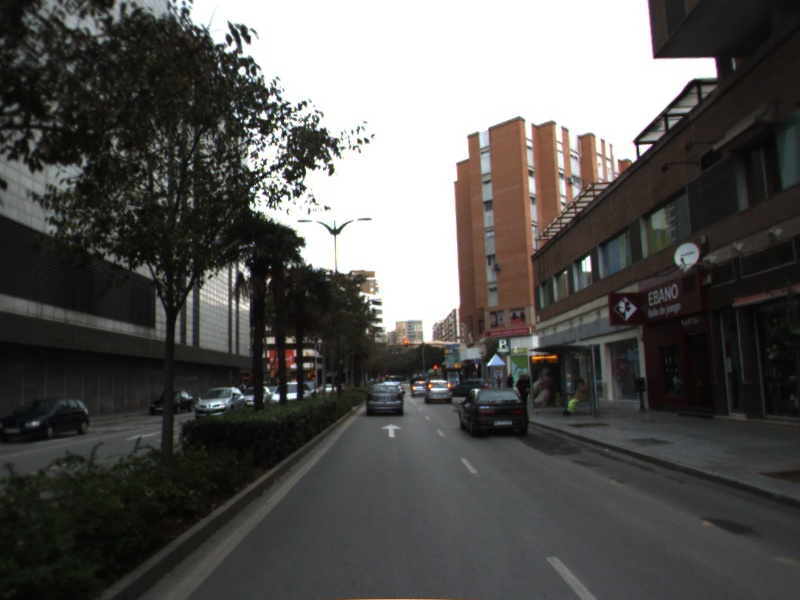STRAIGHT: (379, 422, 405, 439)
